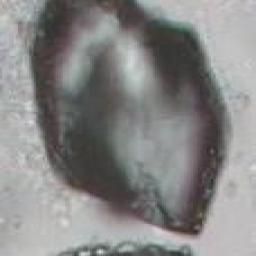crystals: (27, 1, 236, 240)
